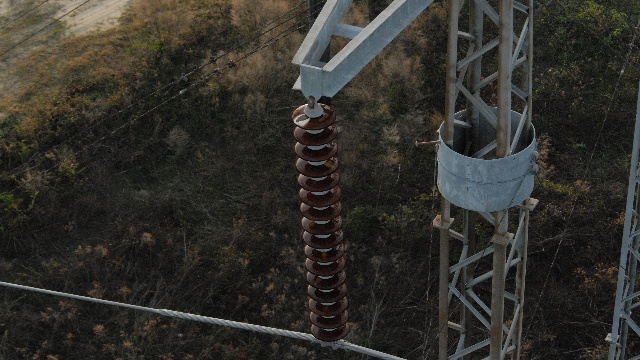insulator_unspecified: (293, 103, 352, 341)
pollution_flashover_local: (294, 112, 309, 126), (320, 305, 329, 315), (325, 161, 334, 169), (314, 276, 322, 285), (306, 220, 315, 227), (321, 251, 328, 259)
